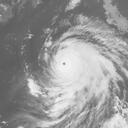cyclone: (30, 25, 122, 109)
